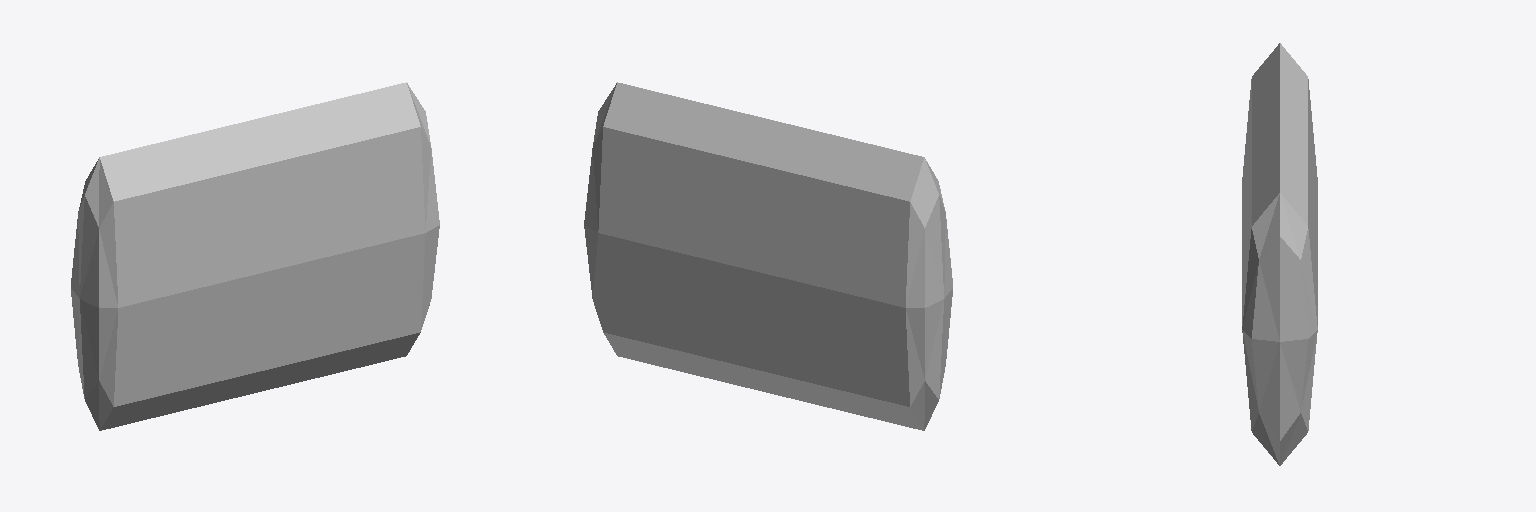
Rendered from Muro.obj.
3 views of the same model, side by side, from view 1: azimuth 30°, elevation 25°; view 2: azimuth 150°, elevation 25°; view 3: azimuth 270°, elevation 25° (orthographic).
Parts seen in each view (by area): view 1: Cube; view 2: Cube; view 3: Cube.
Part boxes in pixels (left/top/right/bottom): Cube: left=71, top=82, right=439, bottom=430; Cube: left=584, top=82, right=952, bottom=430; Cube: left=1242, top=43, right=1317, bottom=465.
Bounding box in the file's own units: 5.38 × 4 × 1.